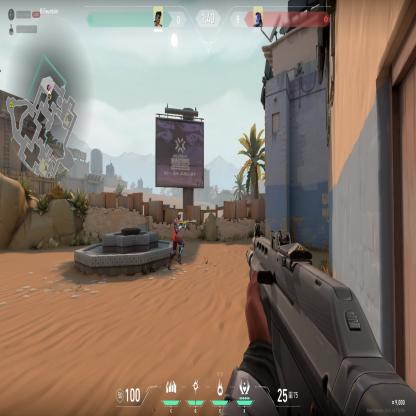enemy: (166, 211, 190, 270)
